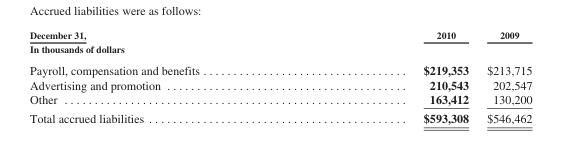table: (29, 28, 531, 124)
table column: (29, 28, 310, 124), (310, 28, 477, 124), (477, 28, 531, 124)
table column header: (29, 28, 531, 41)
table projected row header: (29, 41, 531, 58)
table row: (29, 58, 531, 76), (29, 41, 531, 58), (29, 91, 531, 108), (29, 108, 531, 124), (29, 76, 531, 91), (29, 28, 531, 41)
